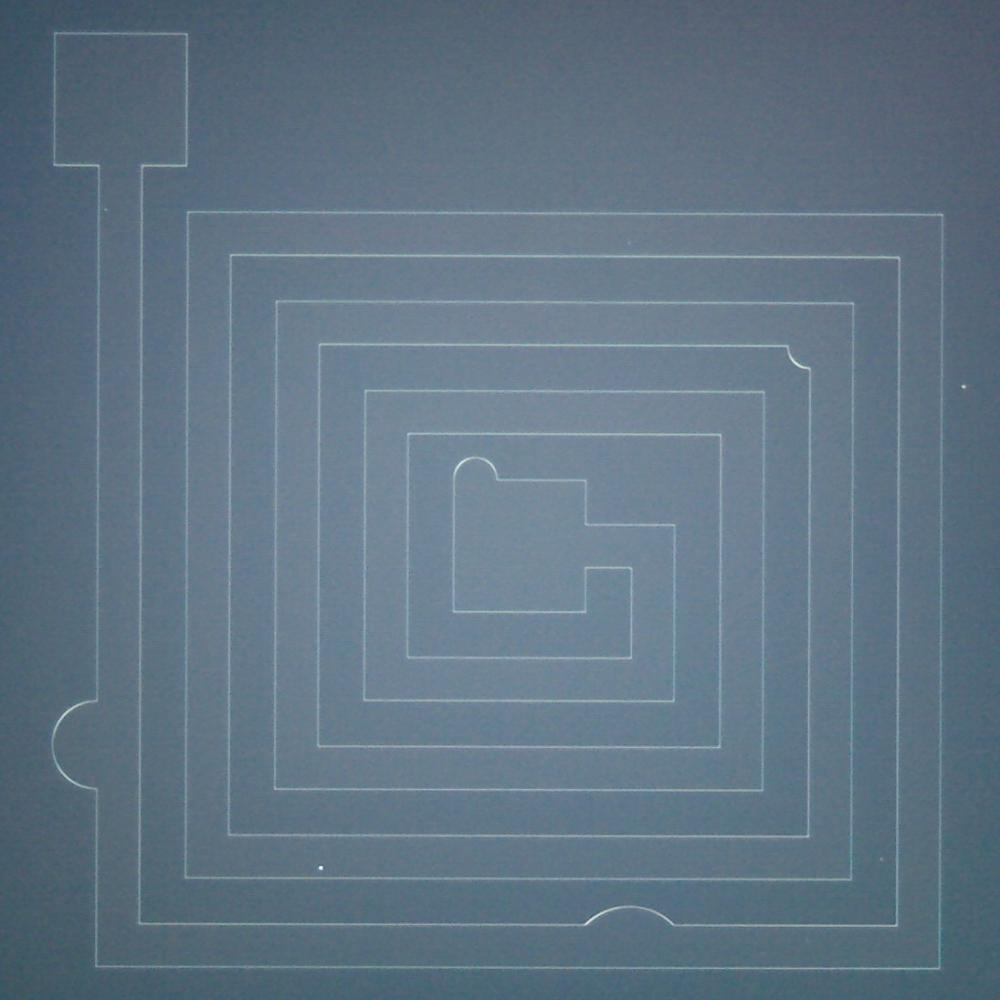dot: (961, 385, 966, 389), (319, 866, 323, 870)
